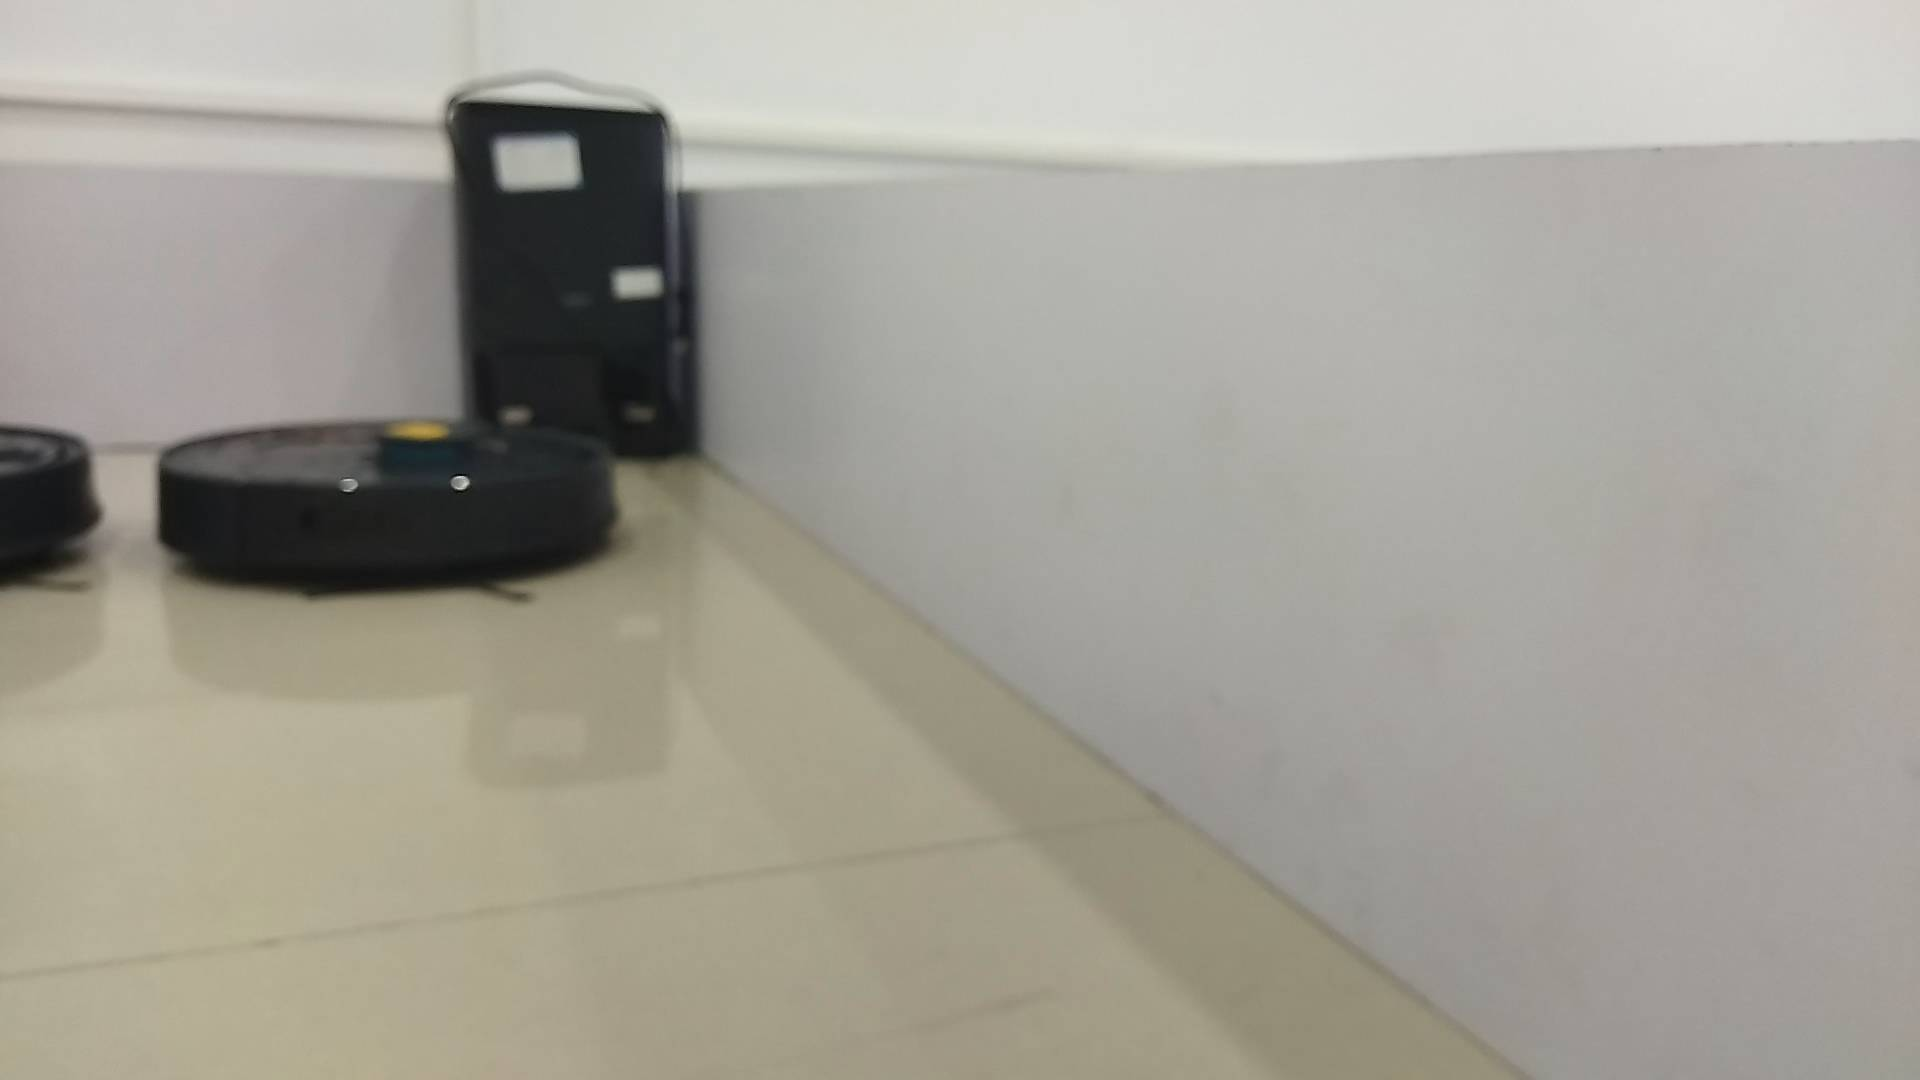dust collecting barrel: (448, 102, 686, 462)
